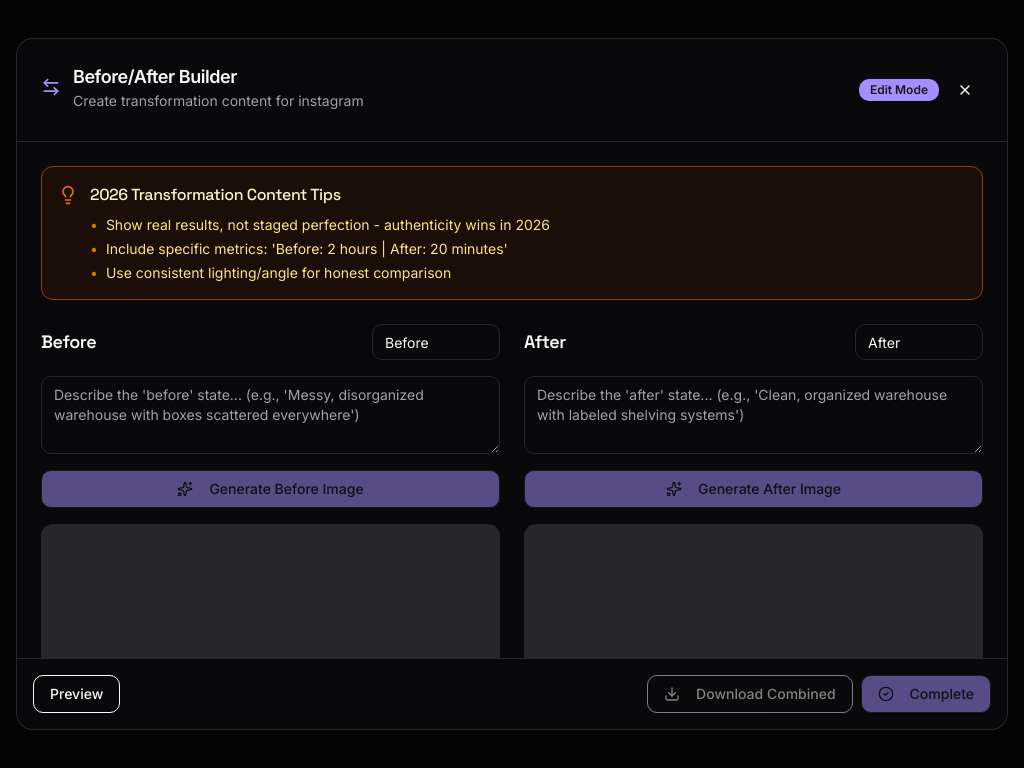
Test case: BeforeAfterBuilder - View Mode › toggles to preview mode
This screenshot has width=1024, height=768.
Click the button "Preview" at (77, 694), box left=33, top=675, right=120, bottom=713
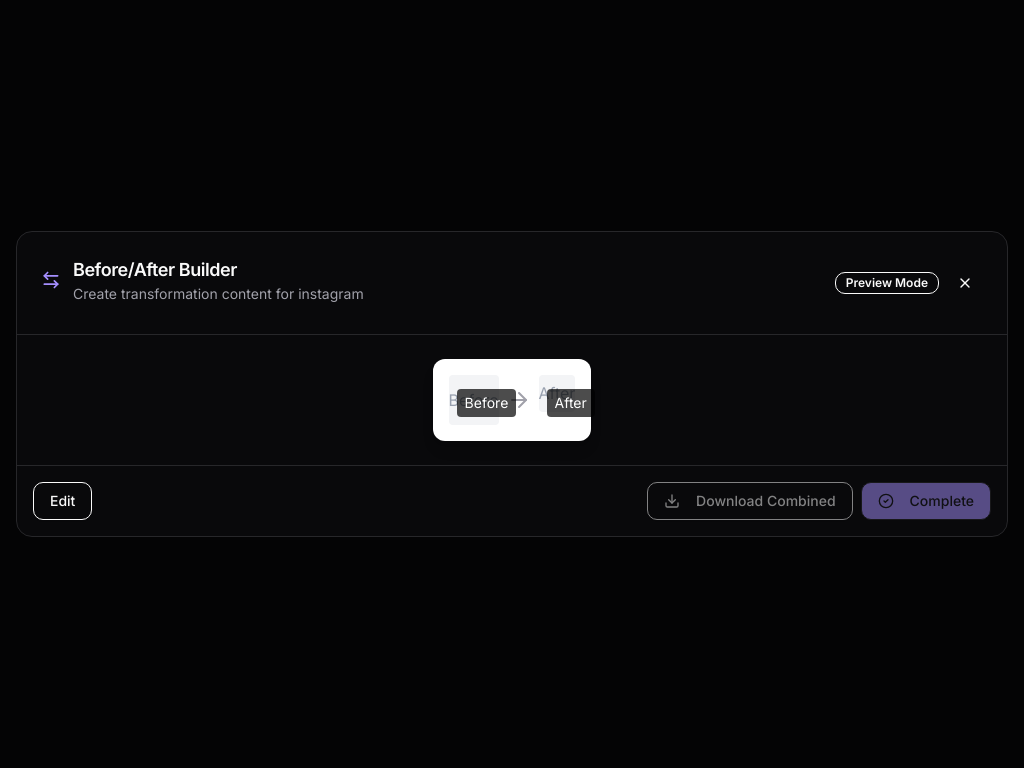
Expected: the text "Preview Mode" is shown, left=835, top=272, right=939, bottom=294
Expected: the button "Edit" is shown, left=33, top=482, right=92, bottom=520
